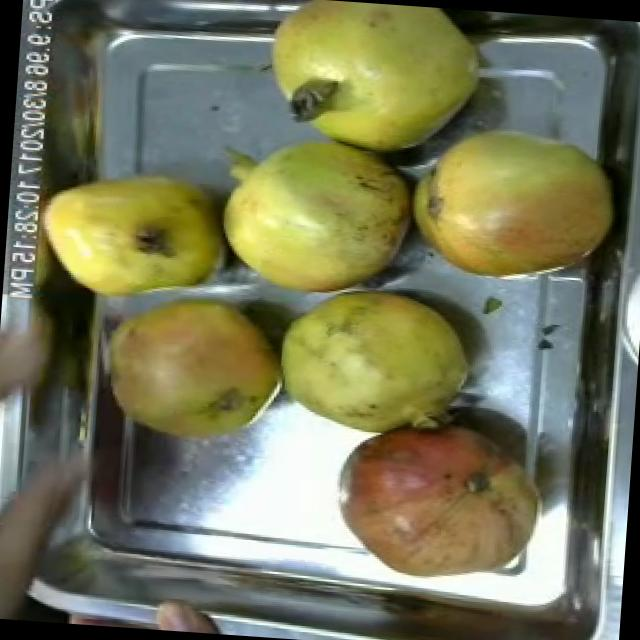fruit: (384, 83, 640, 337), (194, 102, 441, 320), (322, 402, 558, 594), (259, 274, 492, 450), (13, 153, 234, 313), (90, 284, 292, 452), (140, 592, 240, 635)
